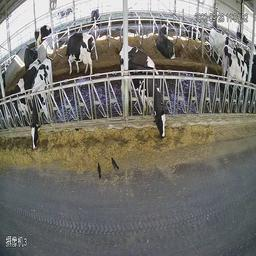cow: (118, 42, 166, 139), (28, 57, 54, 150), (62, 34, 91, 76), (155, 21, 178, 60), (210, 24, 227, 62), (33, 24, 54, 45), (184, 21, 202, 42)
